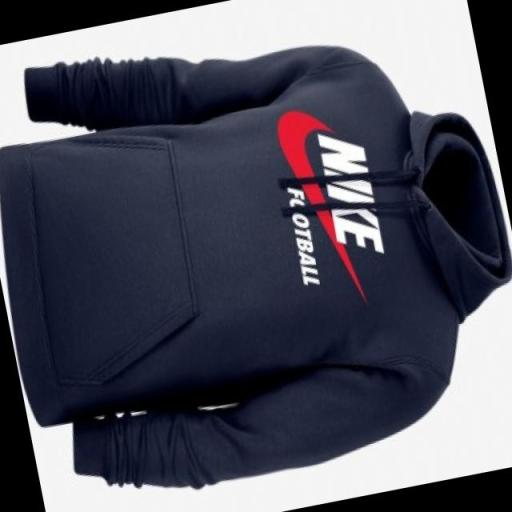Nike: (273, 104, 351, 292), (315, 128, 385, 263)
